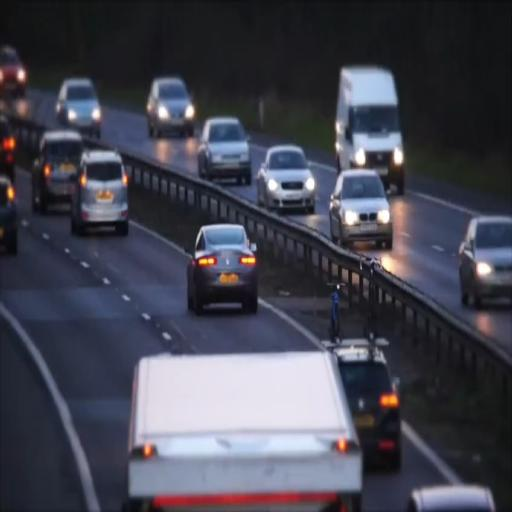car: (326, 325, 406, 472), (186, 224, 260, 314), (328, 166, 393, 250), (70, 148, 131, 236), (458, 217, 512, 307), (32, 131, 84, 215), (255, 144, 316, 214), (196, 116, 250, 186), (146, 76, 196, 139), (55, 77, 103, 140), (0, 45, 28, 98), (0, 174, 18, 256), (0, 112, 17, 185)
truck: (113, 334, 364, 512), (334, 63, 404, 193)
